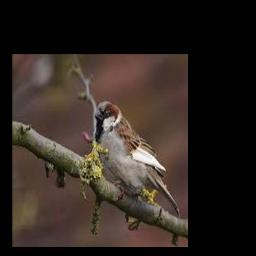Sparrow: (95, 100, 181, 218)
